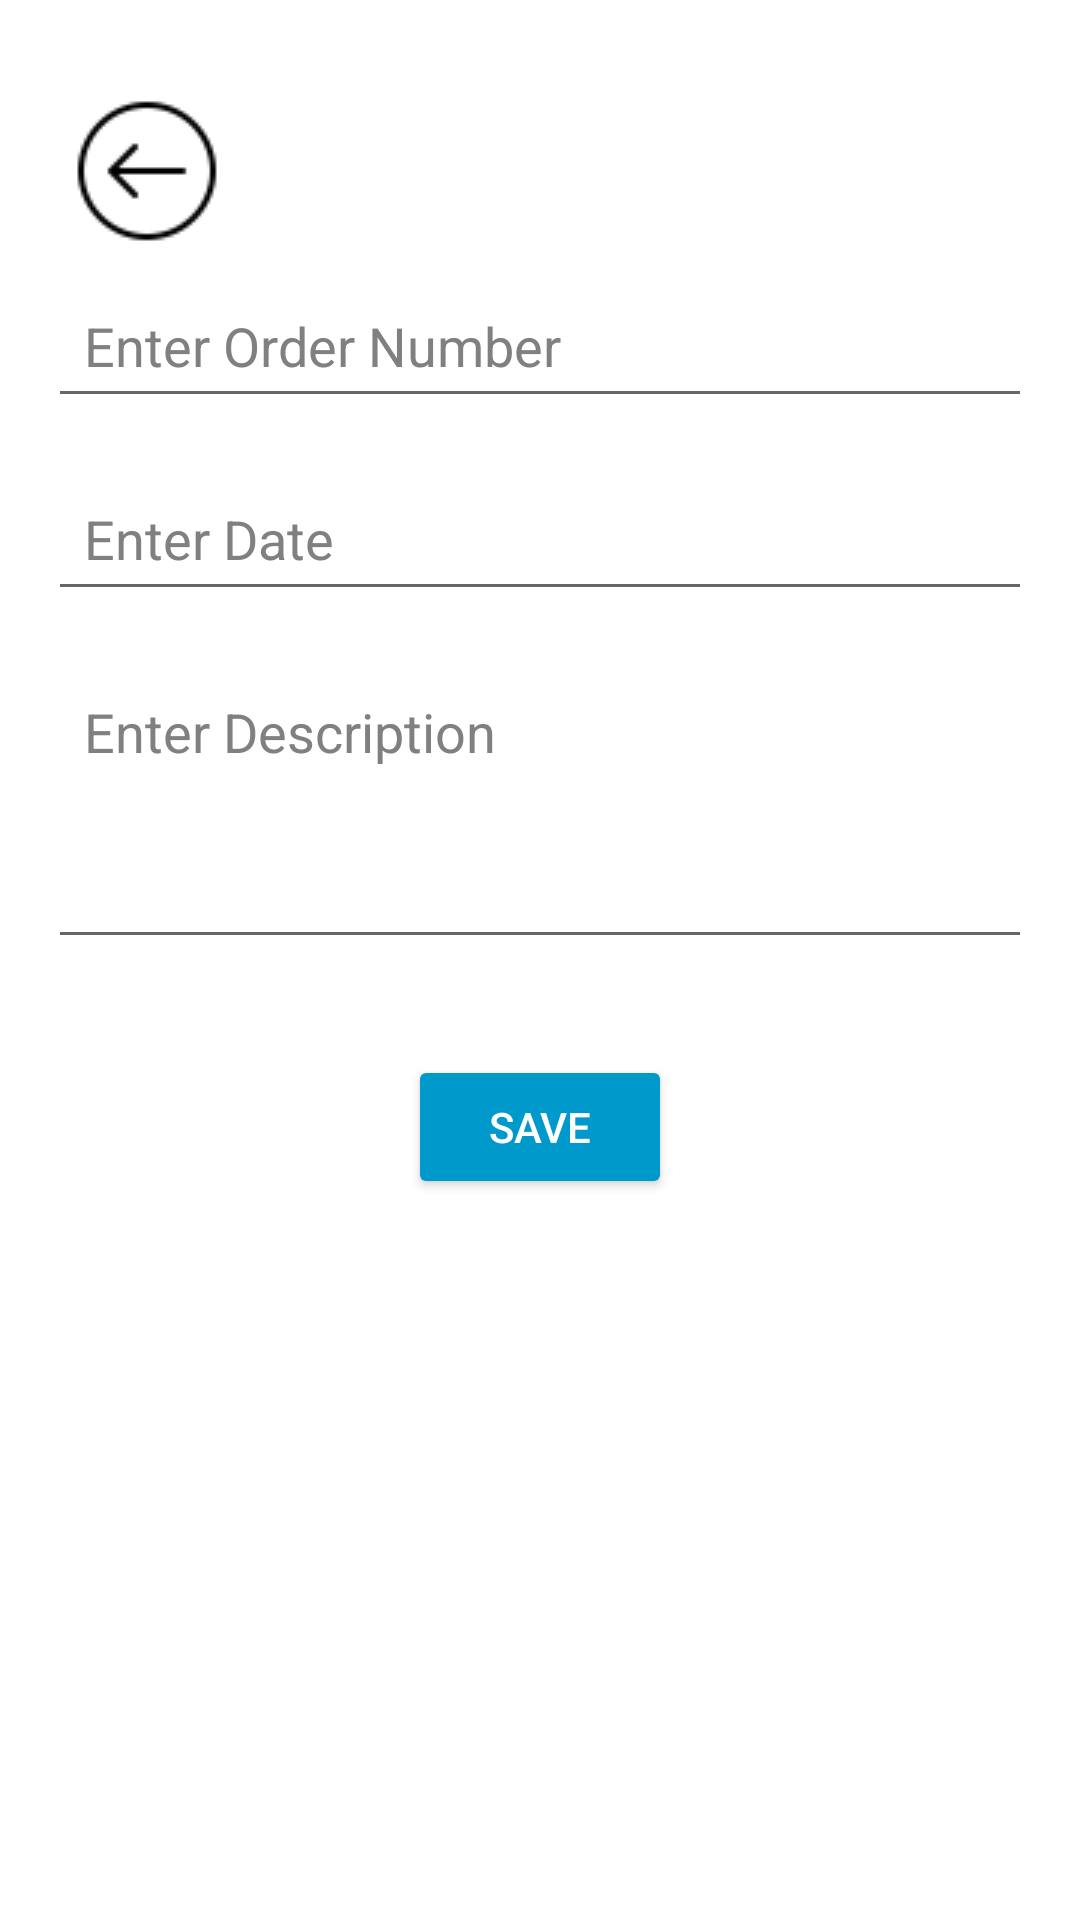

Point at icon controls on the screen. Image size 1080 × 1920, points as (x=x, y=y).
Back: (x=147, y=171)
